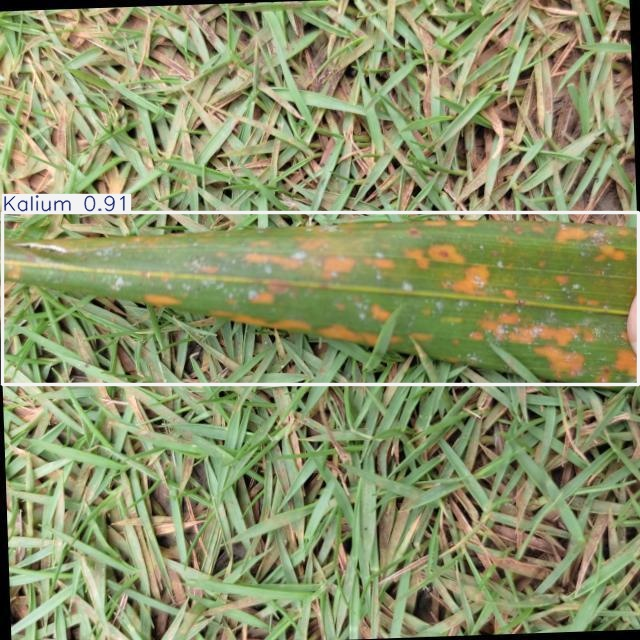Kalium: (2, 213, 639, 385)
